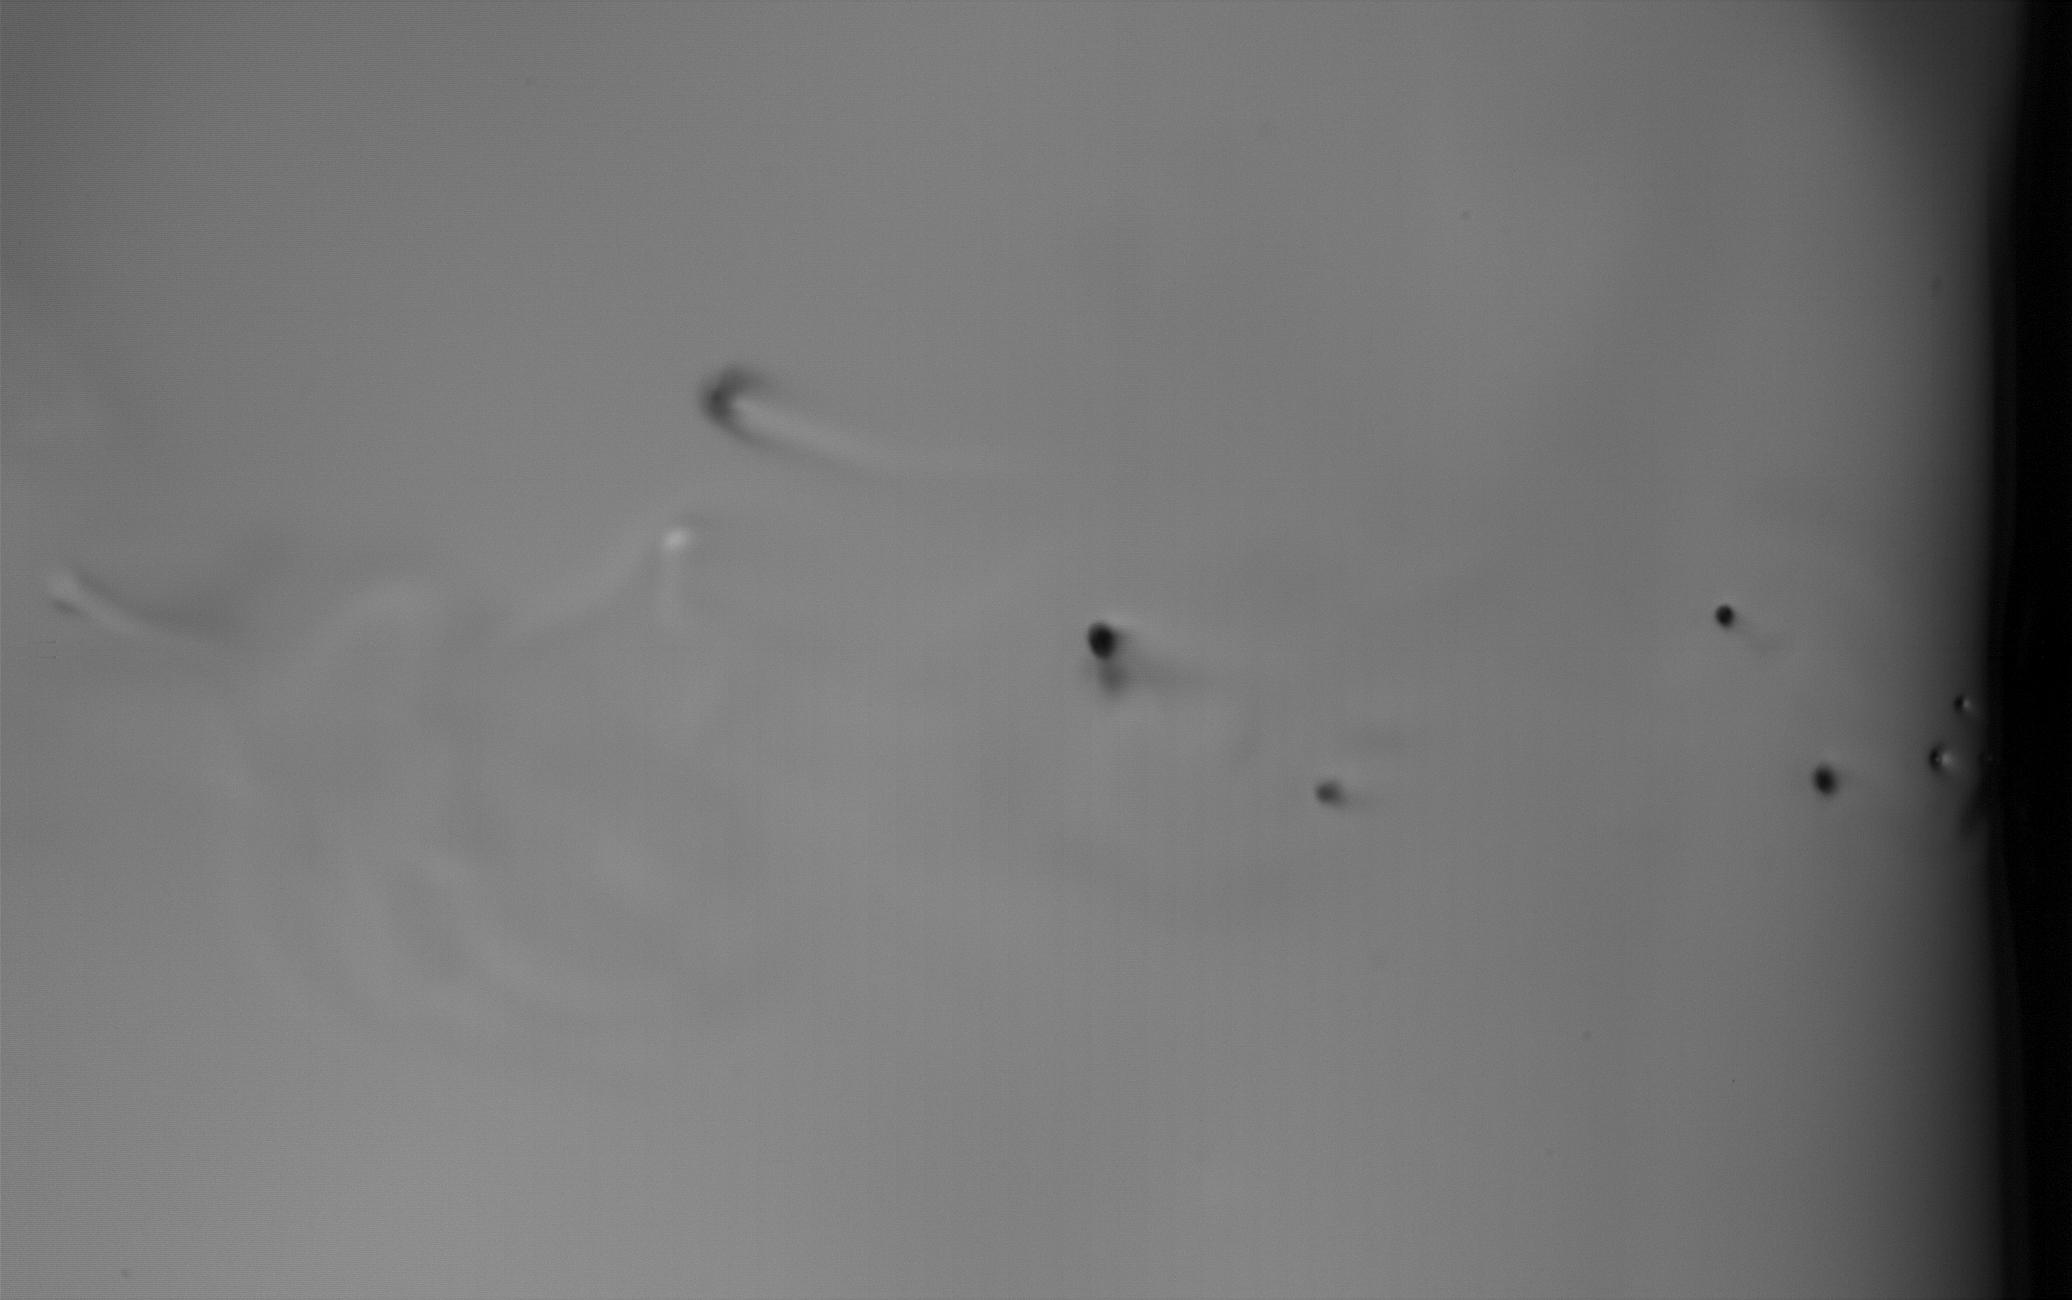ClassicalEvaporation: (1087, 620, 1117, 662), (1813, 762, 1837, 795), (1313, 780, 1338, 807), (1711, 602, 1737, 629)
DiffusiveMixing: (698, 364, 773, 431)
